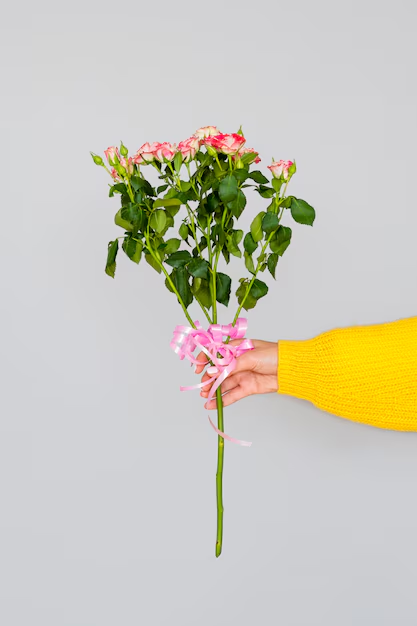Pink: (211, 132, 246, 152), (196, 124, 223, 148), (266, 159, 291, 181), (153, 140, 175, 163), (177, 136, 198, 160), (135, 144, 155, 167), (103, 145, 120, 170)
